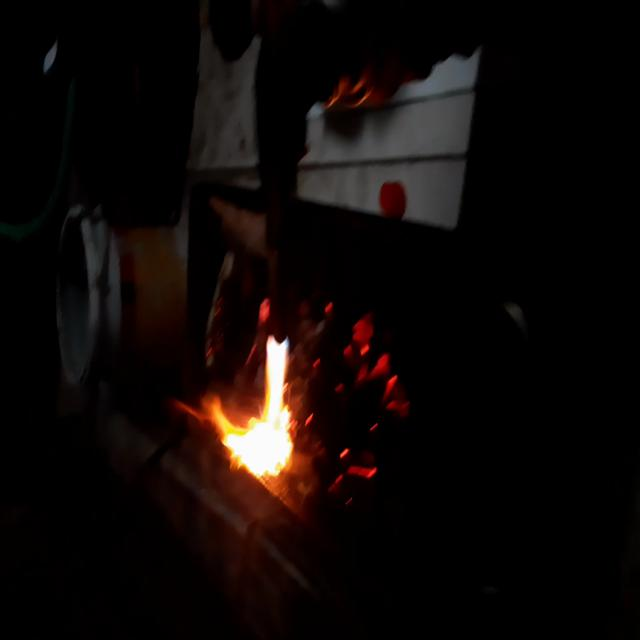Fire: (312, 291, 409, 502), (192, 320, 297, 500)
